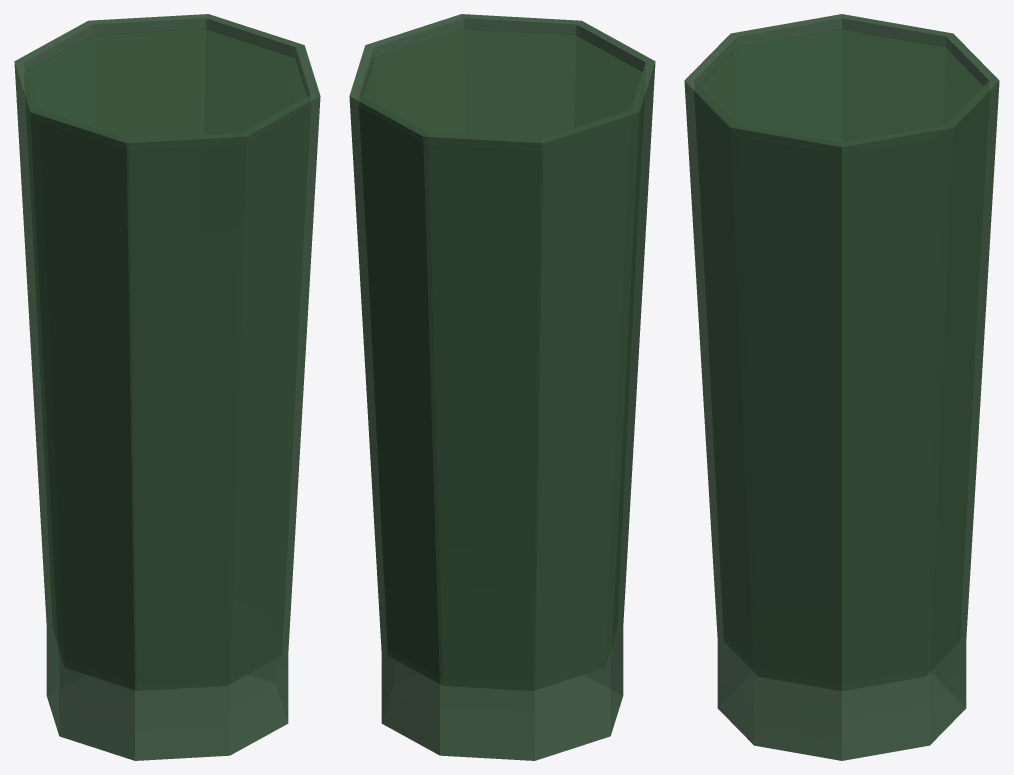
Rendered from TallGlass.fbx.
The picture shows the model from 3 angles, left to right: view 1: azimuth 30°, elevation 25°; view 2: azimuth 150°, elevation 25°; view 3: azimuth 270°, elevation 25°; orthographic projection.
Visible parts, largest first — view 1: pCylinder1, pCylinder2; view 2: pCylinder1, pCylinder2; view 3: pCylinder1, pCylinder2.
Boxes of the visible parts, bbox=[...] form: pCylinder1: bbox=[14, 14, 320, 760]; pCylinder2: bbox=[24, 29, 310, 352]; pCylinder1: bbox=[349, 14, 655, 760]; pCylinder2: bbox=[359, 29, 645, 352]; pCylinder1: bbox=[684, 14, 999, 760]; pCylinder2: bbox=[694, 29, 989, 354].
Bounding box in the file's own units: 2 × 4.4 × 2.
